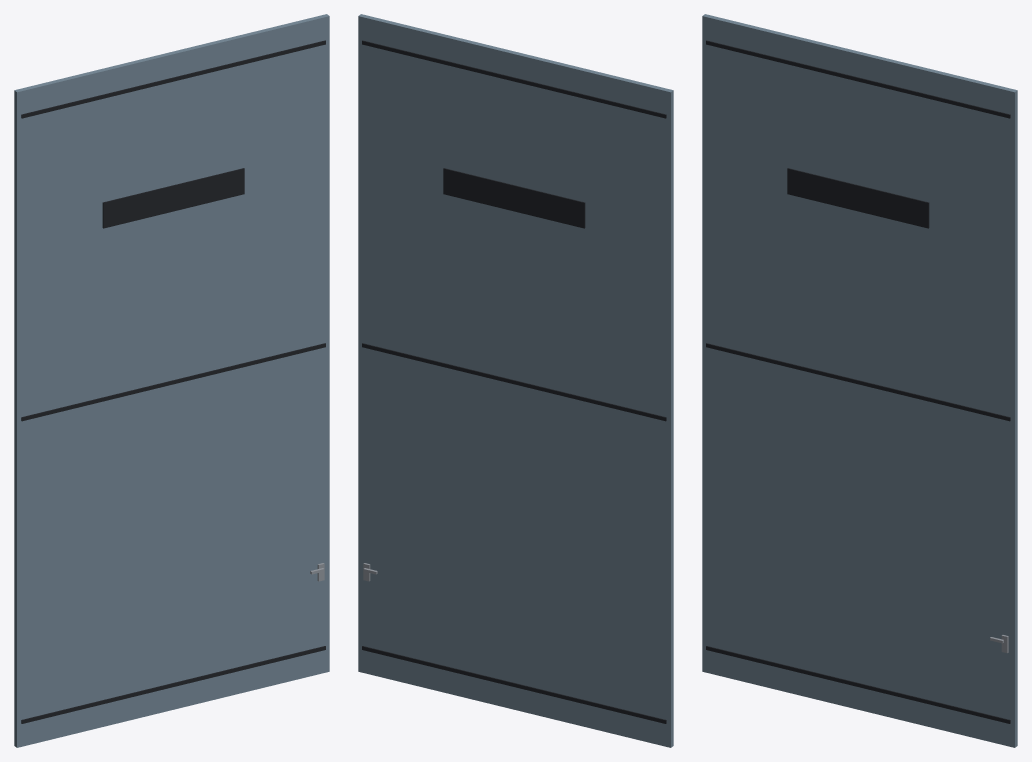
Rendered from SM_Door_metal_320x640.fbx.
The picture shows the model from 3 angles, left to right: view 1: azimuth 30°, elevation 25°; view 2: azimuth 150°, elevation 25°; view 3: azimuth 330°, elevation 25°; orthographic projection.
Parts seen in each view (by area): view 1: SM_Door_metal_320x640; view 2: SM_Door_metal_320x640; view 3: SM_Door_metal_320x640.
Part boxes in pixels (bbox=[...]): SM_Door_metal_320x640: bbox=[14, 14, 329, 747]; SM_Door_metal_320x640: bbox=[358, 14, 673, 747]; SM_Door_metal_320x640: bbox=[702, 14, 1017, 747].
Size of the model in its own units: 3.19 by 6.39 by 0.175.
